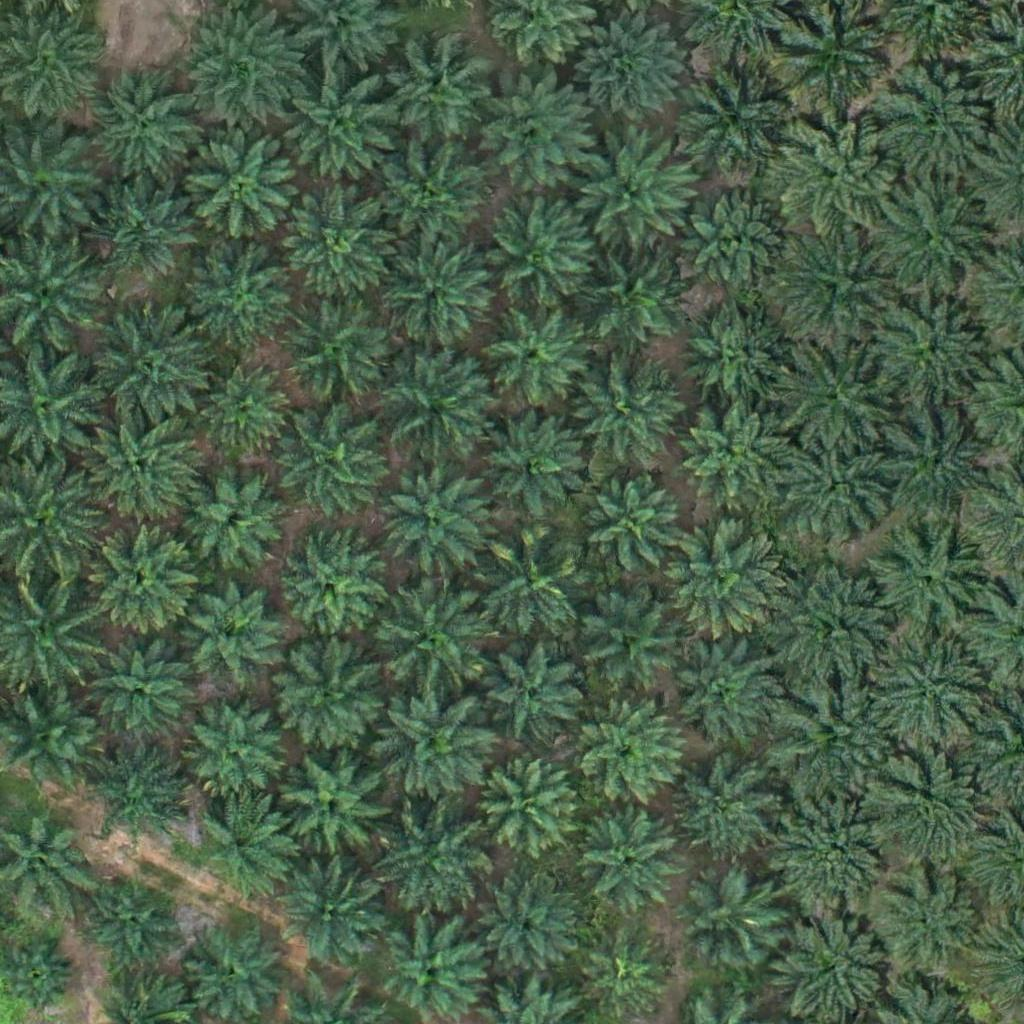Kelapa_Sawit: (680, 56, 805, 182), (779, 126, 904, 252), (80, 303, 205, 429), (373, 685, 498, 811), (662, 509, 787, 635), (658, 626, 783, 752), (775, 567, 900, 693), (775, 678, 900, 804), (872, 54, 997, 180), (875, 397, 1000, 523), (772, 787, 897, 913), (863, 752, 988, 878), (569, 134, 694, 259), (783, 328, 908, 453), (870, 630, 995, 755), (477, 75, 590, 189), (383, 29, 496, 143), (379, 142, 492, 256), (86, 69, 199, 183), (85, 173, 198, 287), (187, 240, 300, 354), (280, 405, 393, 519), (871, 186, 984, 300), (779, 1, 892, 114), (271, 527, 384, 640), (274, 640, 387, 753), (482, 196, 595, 309), (571, 356, 684, 469), (374, 806, 487, 919), (876, 289, 989, 402), (867, 527, 980, 640), (280, 67, 392, 181), (183, 135, 295, 249), (282, 296, 394, 410), (378, 459, 490, 573), (376, 582, 488, 696), (473, 533, 585, 647), (573, 700, 685, 814), (572, 7, 684, 120), (188, 13, 300, 126), (88, 415, 200, 528), (88, 516, 200, 629), (281, 181, 393, 294), (383, 236, 495, 349), (382, 356, 494, 469), (674, 399, 786, 512), (782, 435, 894, 548), (94, 641, 194, 742), (186, 467, 286, 568), (184, 590, 284, 691), (483, 302, 583, 403), (481, 409, 581, 510), (582, 254, 682, 355), (583, 477, 683, 578), (688, 184, 788, 285), (683, 309, 783, 410), (789, 235, 889, 336), (480, 881, 580, 982), (381, 921, 481, 1022), (285, 757, 385, 858), (278, 854, 378, 955), (195, 790, 295, 891), (182, 702, 282, 803), (86, 743, 186, 844), (86, 875, 186, 976), (875, 870, 975, 971), (194, 361, 294, 461), (487, 638, 587, 738), (577, 592, 677, 692), (674, 764, 774, 864), (682, 872, 782, 972), (581, 814, 681, 914), (478, 759, 578, 859), (582, 934, 670, 1022), (1, 942, 76, 1018)
